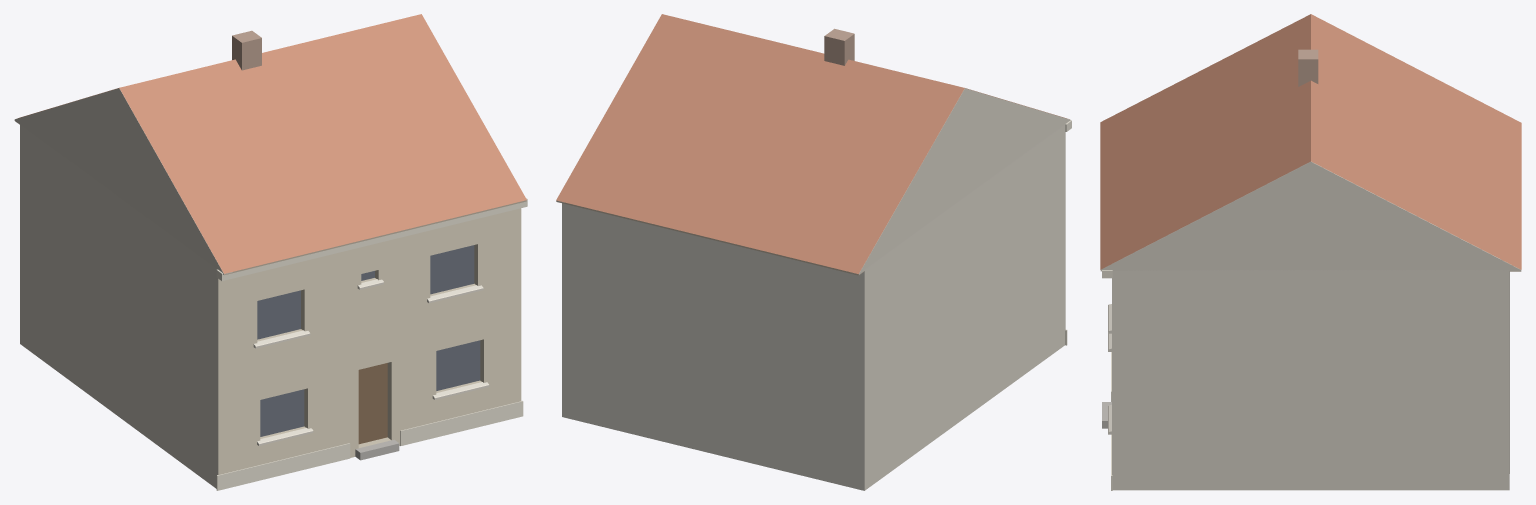
3 views of the same model, side by side, from view 1: azimuth 30°, elevation 25°; view 2: azimuth 150°, elevation 25°; view 3: azimuth 270°, elevation 25° (orthographic).
Visible parts, largest first — view 1: CP_673_Masonry, CP_673_Roof, CP_673_Gable_L_gable, CP_673_Cornice_plinth_0, CP_673_Cornice_plinth_1, CP_673_Cornice_main_0, CP_673_Chimney_0, CP_673_Roof_EaveClosure_0, CP_673_Step_0; view 2: CP_673_Masonry, CP_673_Roof, CP_673_Gable_L_gable, CP_673_Chimney_0, CP_673_Roof_EaveClosure_1; view 3: CP_673_Masonry, CP_673_Roof, CP_673_Gable_R_gable, CP_673_Chimney_0.
Boxes of the visible parts, x1,y1,x2,y2 form: CP_673_Masonry: [20, 124, 521, 488]; CP_673_Roof: [18, 14, 526, 273]; CP_673_Gable_L_gable: [14, 88, 232, 274]; CP_673_Cornice_plinth_0: [216, 443, 350, 490]; CP_673_Cornice_plinth_1: [400, 400, 523, 445]; CP_673_Cornice_main_0: [216, 198, 527, 280]; CP_673_Chimney_0: [232, 30, 261, 70]; CP_673_Roof_EaveClosure_0: [223, 200, 526, 275]; CP_673_Step_0: [355, 439, 399, 460]; CP_673_Masonry: [562, 124, 1065, 490]; CP_673_Roof: [556, 14, 1069, 273]; CP_673_Gable_L_gable: [850, 88, 1070, 274]; CP_673_Chimney_0: [824, 28, 854, 65]; CP_673_Roof_EaveClosure_1: [556, 201, 864, 275]; CP_673_Masonry: [1112, 270, 1509, 490]; CP_673_Roof: [1100, 14, 1521, 269]; CP_673_Gable_R_gable: [1100, 161, 1521, 270]; CP_673_Chimney_0: [1298, 49, 1318, 86].
Bounding box in the file's own units: 10.59 × 11.6 × 12.66.
